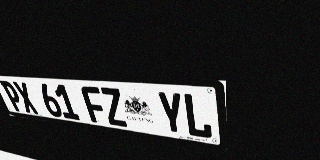1: (51, 84, 80, 120)
6: (36, 83, 64, 118)
F: (80, 86, 109, 124)
L: (182, 93, 213, 139)
P: (0, 81, 26, 112)
X: (12, 81, 39, 114)
Y: (156, 91, 186, 136)
Z: (99, 87, 129, 127)
